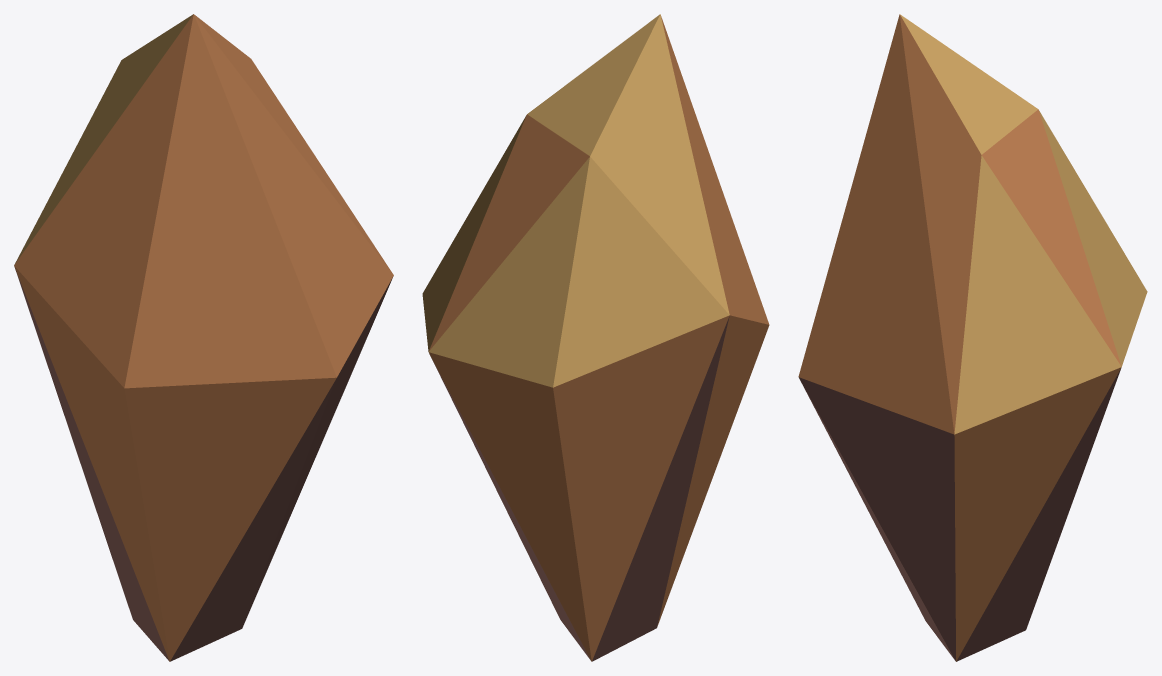
File: PineTree_Autumn_5.lod4.glb
3 renders of one model, left to right at view 1: azimuth 30°, elevation 25°; view 2: azimuth 150°, elevation 25°; view 3: azimuth 270°, elevation 25°, orthographic. The views are drawn at different scales.
Parts seen in each view (by area): view 1: PineTree_Autumn_5; view 2: PineTree_Autumn_5; view 3: PineTree_Autumn_5.
Part boxes in pixels (x1,y1,x2,y2): PineTree_Autumn_5: [14, 14, 393, 661]; PineTree_Autumn_5: [422, 14, 769, 661]; PineTree_Autumn_5: [798, 14, 1147, 661].
Size of the model in its own units: 1.54 by 2.71 by 1.4.
